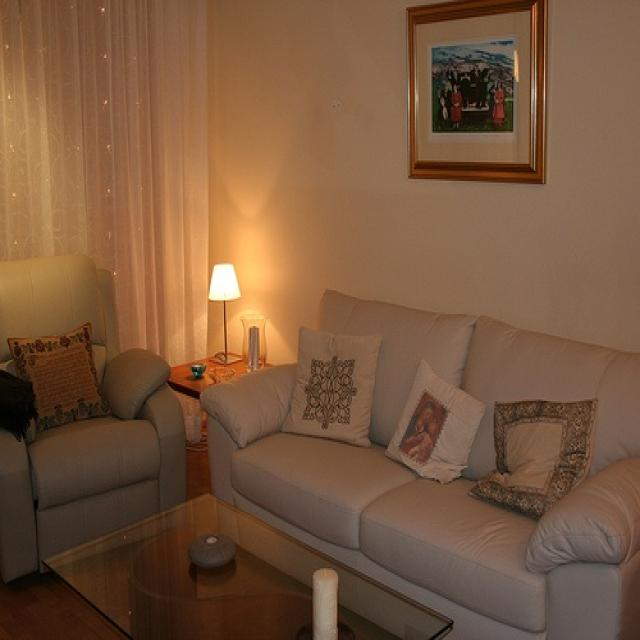chair: (0, 249, 189, 583)
sofa: (198, 284, 639, 638)
